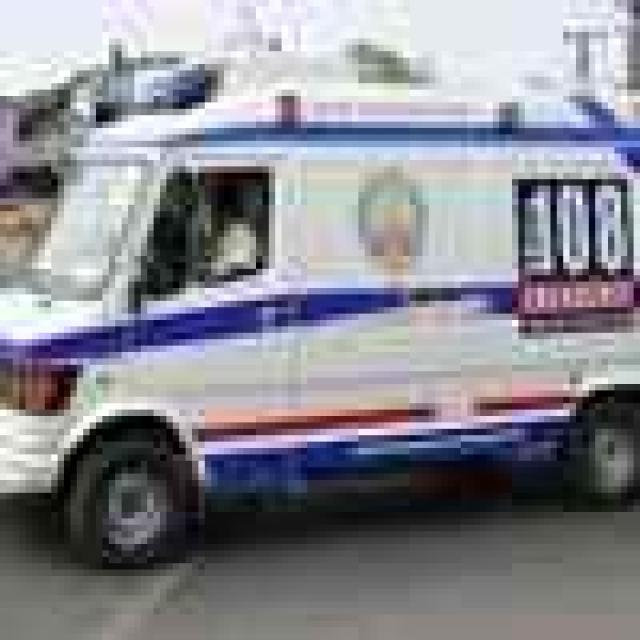ambulance: (0, 70, 640, 563)
